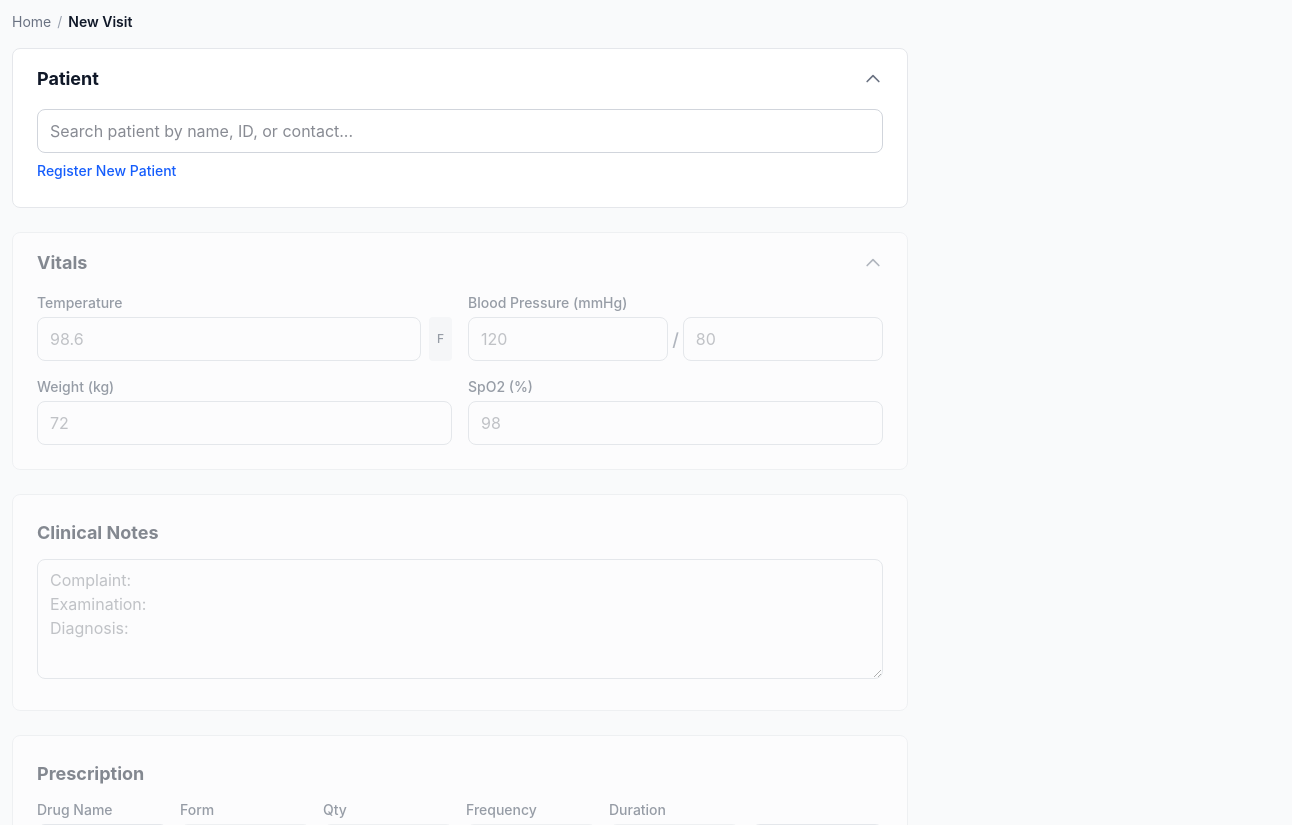
Test: NewVisitPage inline patient registration keyboard › Escape on inline registration form dismisses it and returns focus to patient search input
Type "Zz" into the field with placeholder "Search patient by name, ID, or contact..." at (460, 131), box [37, 109, 883, 153]
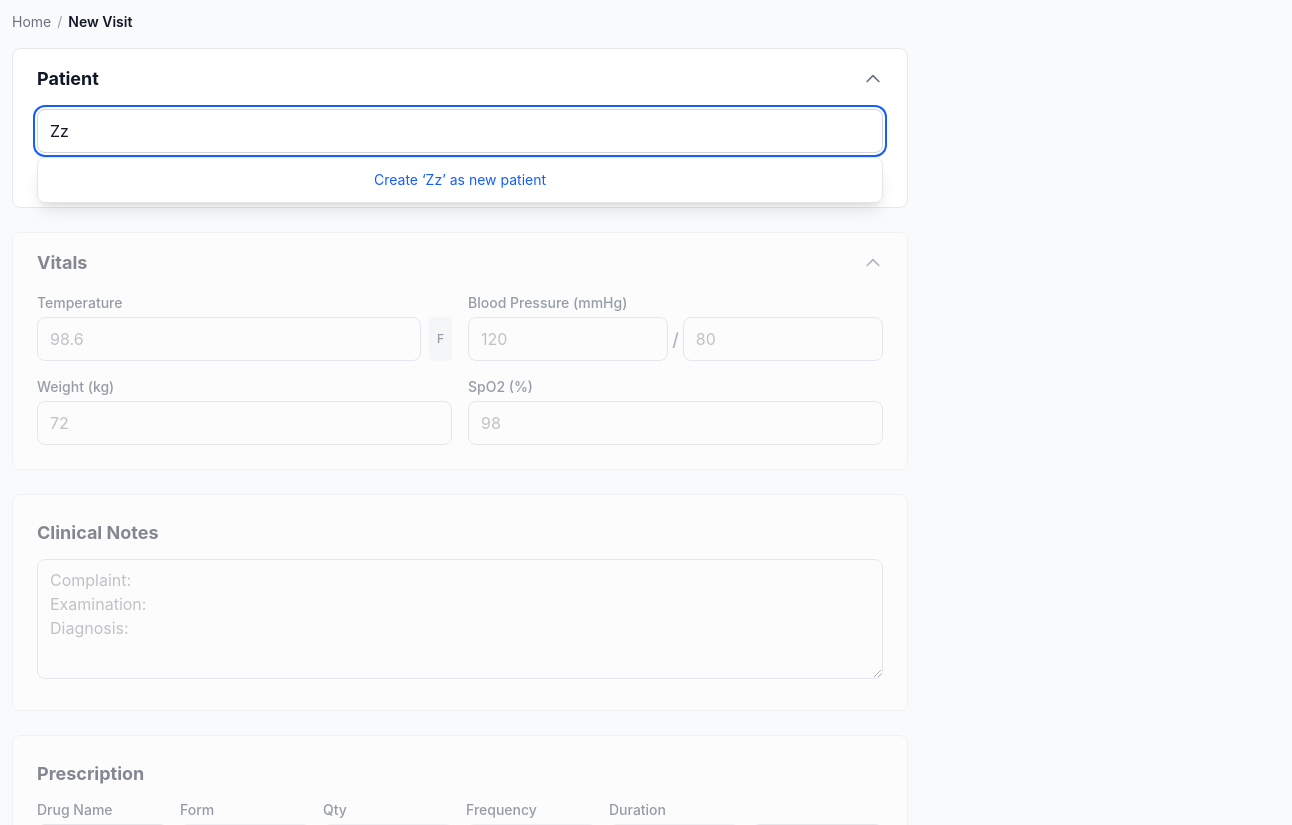
Expected: the button "Create ‘Zz’ as new patient" is shown
Click to open inline form
Click the button "Create ‘Zz’ as new patient" at (460, 180), box [38, 158, 882, 202]
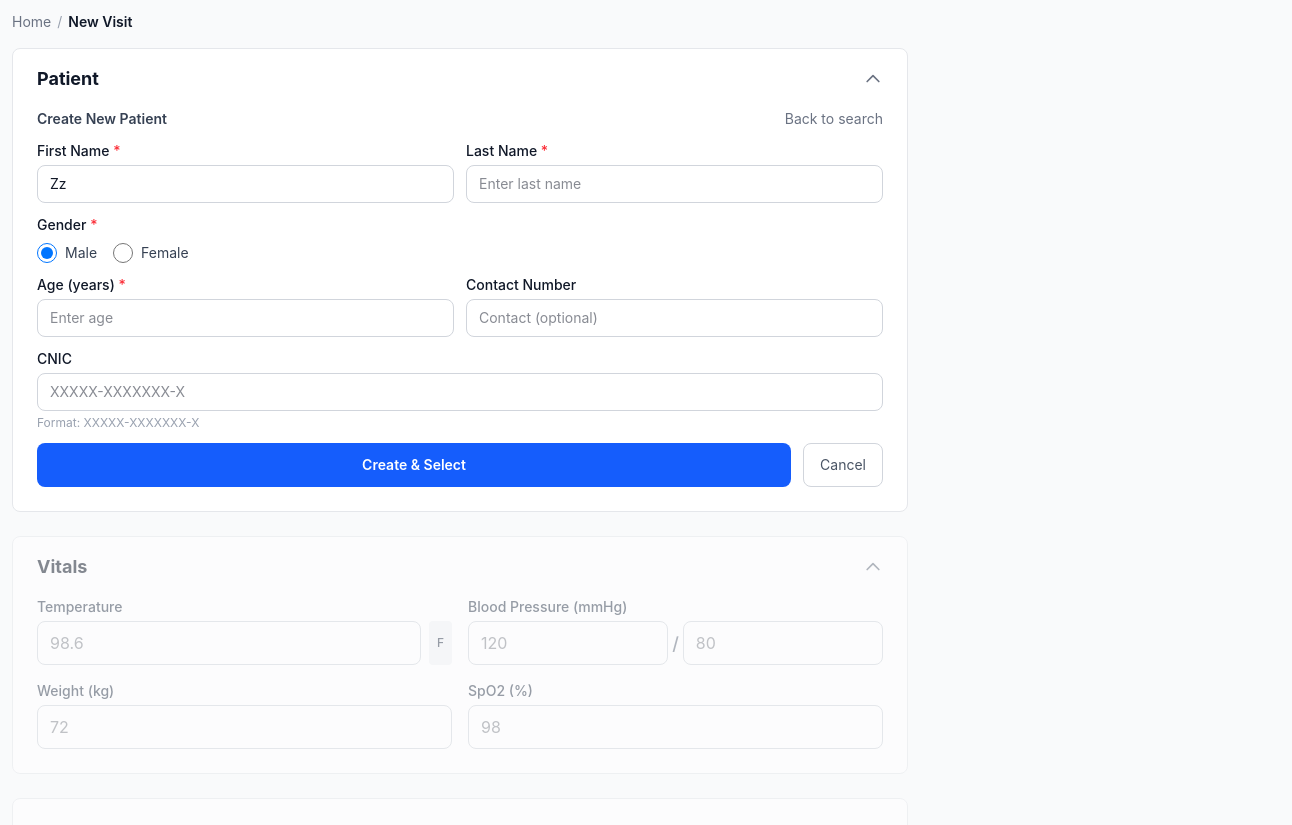
Expected: the heading "Create New Patient" is shown, [37, 109, 167, 129]
Press Escape -- should dismiss and return focus to patient search
Press Escape
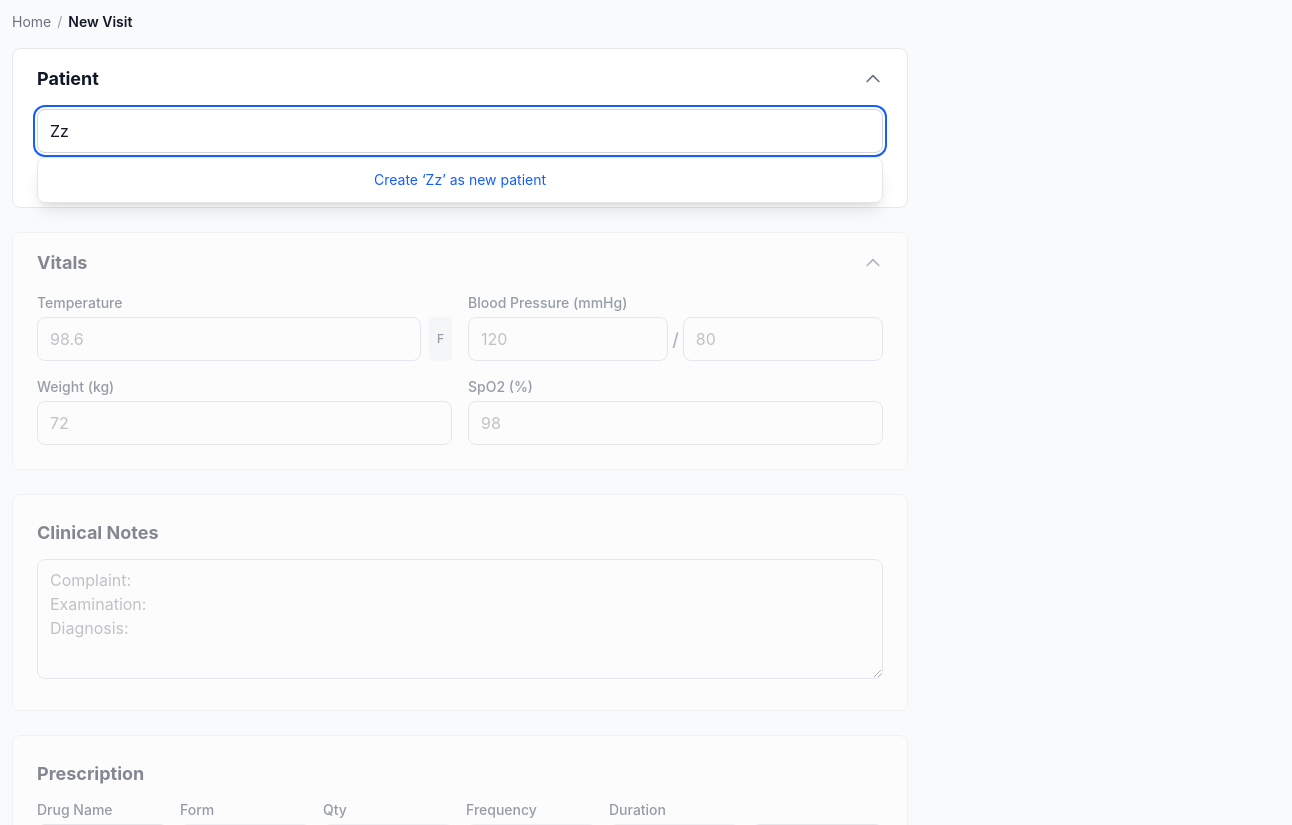
Expected: the heading "Create New Patient" is gone
